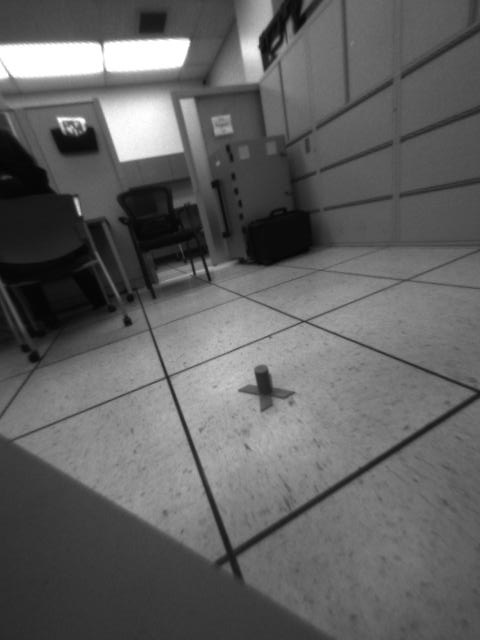X: (236, 364, 296, 412)
